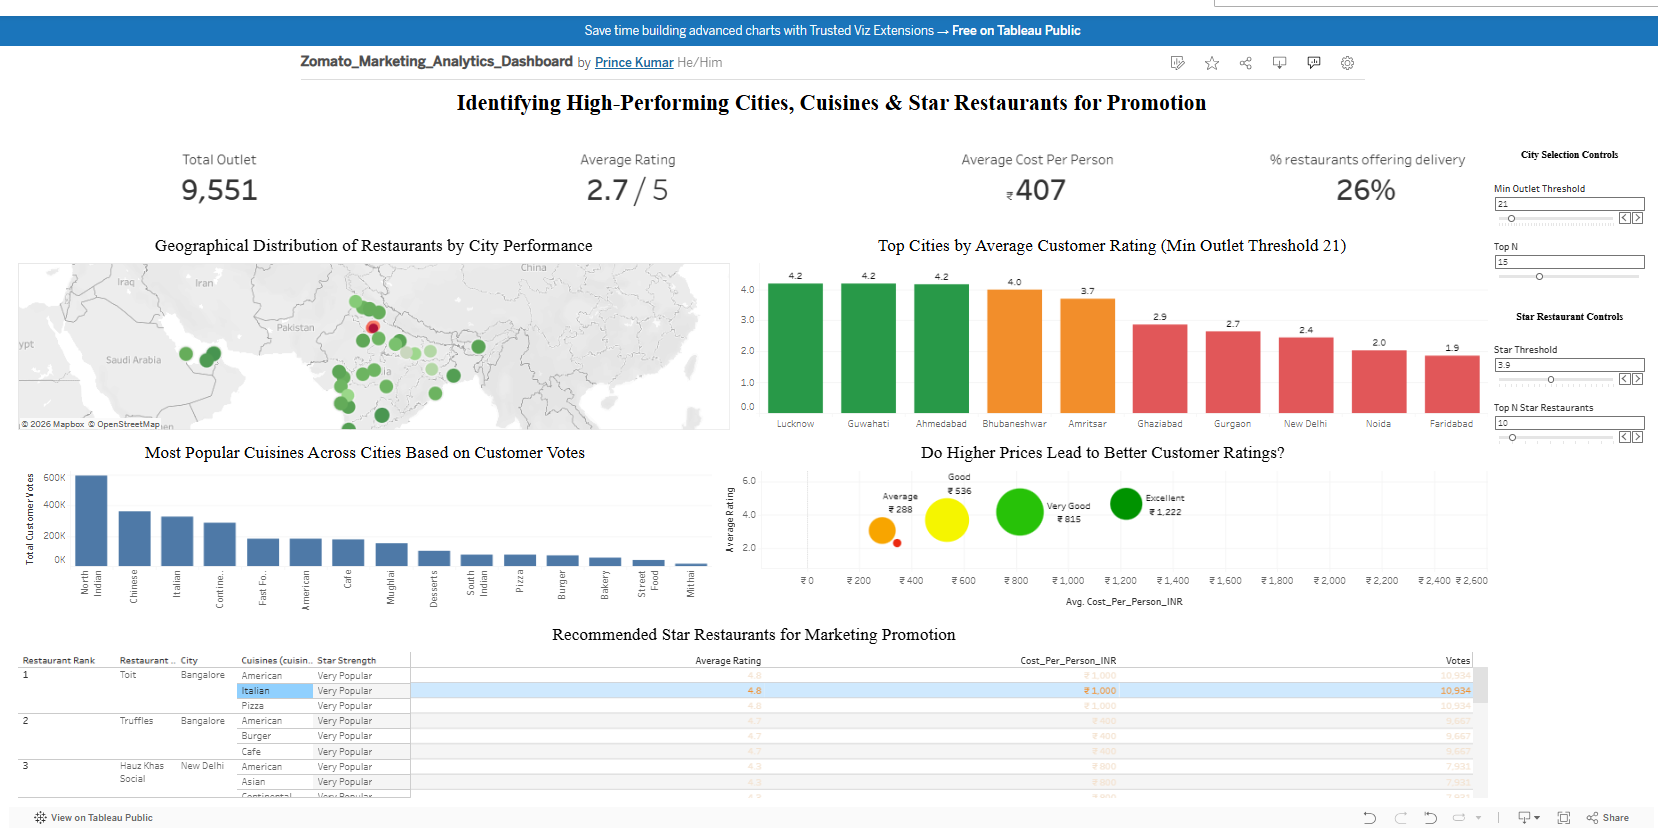

What the dashboard file says about the page in this screenshot:
{"tool":"tableau","page":{"name":"Dashboard 1","canvas":[1000,1000],"units":"permille","ordinal":0},"visuals":[{"type":"text","box":[5.7,12.2,988.7,51.8]},{"type":"worksheet","title":"Total Outlet","mark":"Automatic","box":[5.7,63.9,236.2,167.4]},{"type":"worksheet","title":"Avg Rating","mark":"Automatic","box":[241.9,63.9,237.6,167.4]},{"type":"worksheet","title":"Avg Cost","mark":"Automatic","box":[479.5,63.9,239.8,167.4]},{"type":"worksheet","title":"% Delivery","mark":"Automatic","box":[719.2,63.9,180.8,167.4]},{"type":"text","box":[900.1,63.9,94.2,74.5]},{"type":"parameter","param":"[Parameters].[Parameter 3]","box":[900.1,138.4,94.2,114.2]},{"type":"worksheet","title":"Map","mark":"Automatic","box":[5.7,231.3,434.7,255]},{"type":"worksheet","title":"Top City by Rating","mark":"Automatic","rows":["Calculation_1278459373740834819"],"cols":["City"],"box":[440.3,231.3,459.8,255]},{"type":"parameter","param":"[Parameters].[Parameter 1]","box":[900.1,252.6,94.2,114.2]},{"type":"text","box":[900.1,366.7,94.2,100.5]},{"type":"parameter","param":"[Parameters].[Parameter 2]","box":[900.1,467.2,94.2,114.2]},{"type":"worksheet","title":"Top Cuisines","mark":"Automatic","rows":["Votes"],"cols":["Cuisines (cuisinesDim.csv)"],"box":[5.7,486.4,424.4,247.9]},{"type":"worksheet","title":"Cost v/s Ratings","mark":"Circle","rows":["Aggregate rating"],"cols":["Calculation_1278459373719207937"],"box":[430.1,486.4,470,247.9]},{"type":"parameter","param":"[Parameters].[Parameter 4]","box":[900.1,581.3,94.2,114.2]},{"type":"worksheet","title":"Star Restaurant Recommendations","mark":"Automatic","rows":["Restaurant Name","City","Cuisines (cuisinesDim.csv)","Calculation_1133218288559984648"],"box":[5.7,734.2,894.4,253.6]}]}

Visuals, with their boxes on the dashboard's canvas, which has no fixed pixel size, in thousandths of its width and height (x1, y1, x2, y2). These are canvas units, not pixel positions in the 1658x840 screenshot, which may show the page scaled, cropped or inside an application window:
text: box(6, 12, 994, 64)
"Total Outlet" worksheet: box(6, 64, 242, 231)
"Avg Rating" worksheet: box(242, 64, 480, 231)
"Avg Cost" worksheet: box(480, 64, 719, 231)
"% Delivery" worksheet: box(719, 64, 900, 231)
text: box(900, 64, 994, 138)
parameter: box(900, 138, 994, 253)
"Map" worksheet: box(6, 231, 440, 486)
"Top City by Rating" worksheet: box(440, 231, 900, 486)
parameter: box(900, 253, 994, 367)
text: box(900, 367, 994, 467)
parameter: box(900, 467, 994, 581)
"Top Cuisines" worksheet: box(6, 486, 430, 734)
"Cost v/s Ratings" worksheet (Circle marks): box(430, 486, 900, 734)
parameter: box(900, 581, 994, 696)
"Star Restaurant Recommendations" worksheet: box(6, 734, 900, 988)
